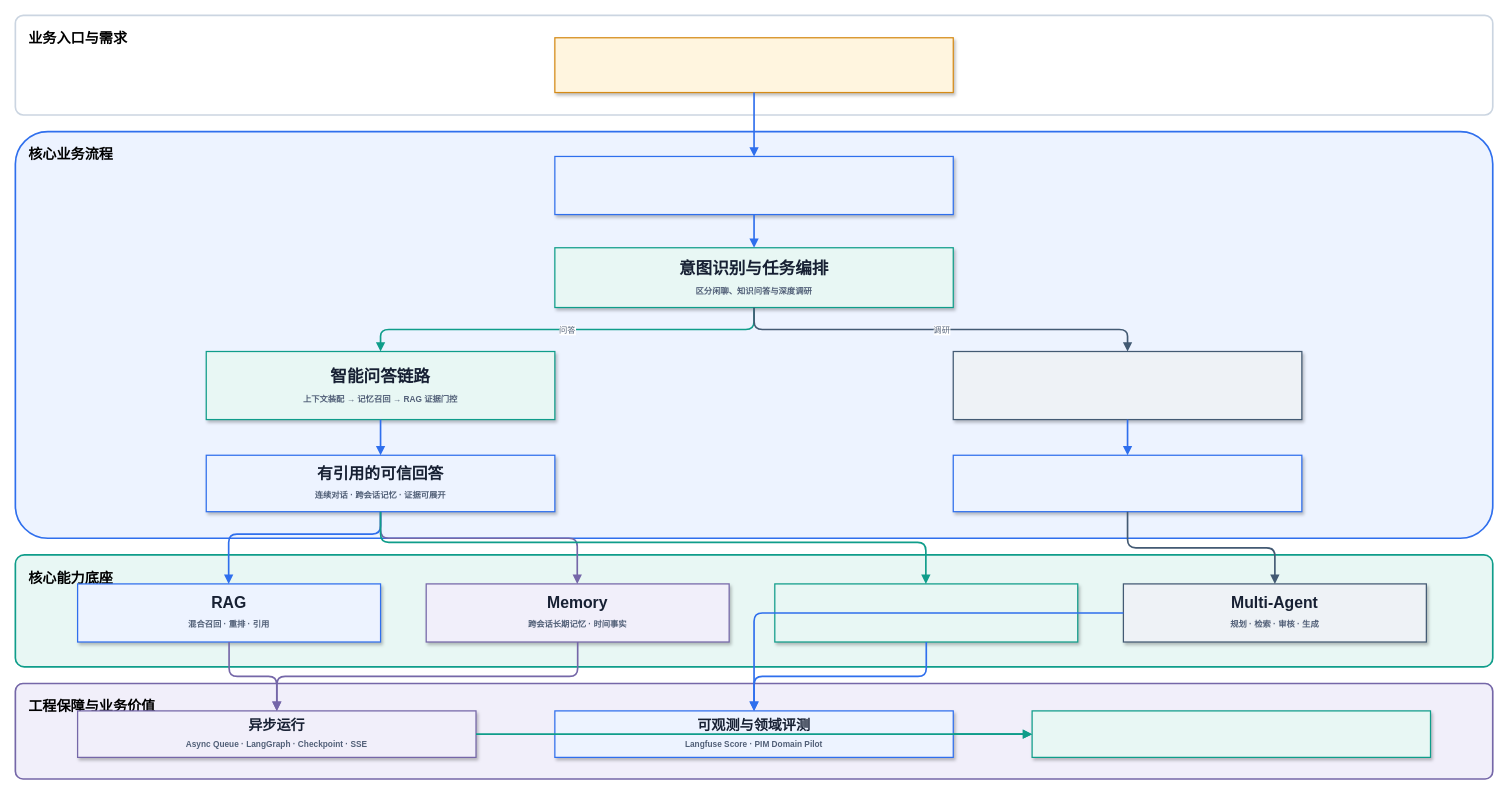
Image size: 1507x793. Some labels were removed from this diagram. Each missing label, with the centre of its shape:
"Context 分层 Token 预算 · 自动压缩恢复" belongs at pixel 926 614.
"PaperStorm Agent 平台 统一入口 · 任务服务 · 会话服务" belongs at pixel 754 186.
"业务价值 可追溯 · 可恢复 · 可迭代 · 可演示" belongs at pixel 1232 735.
"业务需求 论文调研 · 知识问答 · 内部知识服务" belongs at pixel 754 66.
"深度调研链路 Multi-Agent 协作 → STORM 长文生成" belongs at pixel 1128 386.
"结构化调研文章 知识策展 · 大纲 · 章节写作 · 润色" belongs at pixel 1128 484.
